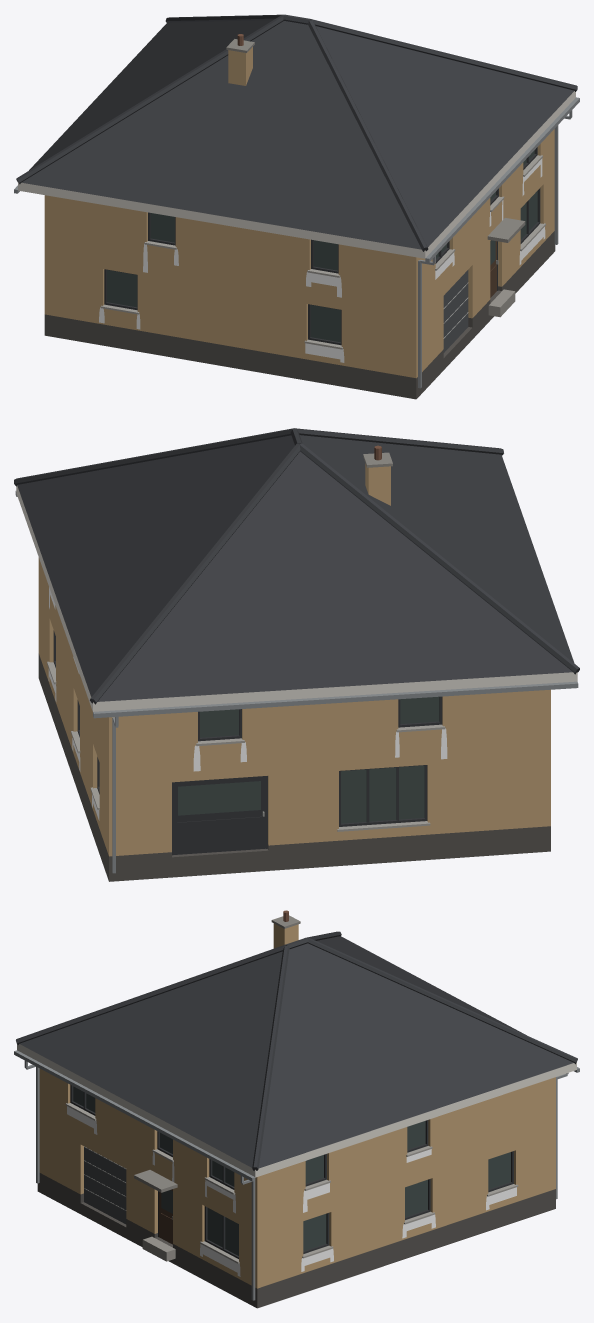
The model's file is vh_buff_hip.glb.
3 renders of one model, top to bottom at view 1: azimuth 30°, elevation 25°; view 2: azimuth 150°, elevation 25°; view 3: azimuth 270°, elevation 25°, orthographic. The views are drawn at different scales.
Parts seen in each view (by area): view 1: vh_roof, vh_brick, vh_trim, vh_frames_small, vh_glass, vh_stone, vh_streaks_small; view 2: vh_roof, vh_brick, vh_trim, vh_frames_small, vh_glass, vh_stone, vh_streaks_small; view 3: vh_roof, vh_brick, vh_trim, vh_frames_small, vh_glass, vh_stone, vh_streaks_small.
Boxes of the visible parts, bbox=[...] form: vh_roof: bbox=[16, 14, 577, 251]; vh_brick: bbox=[44, 47, 554, 378]; vh_trim: bbox=[18, 91, 575, 399]; vh_frames_small: bbox=[14, 97, 579, 388]; vh_glass: bbox=[107, 150, 537, 342]; vh_stone: bbox=[100, 34, 545, 349]; vh_streaks_small: bbox=[99, 158, 545, 362]; vh_roof: bbox=[14, 428, 579, 704]; vh_brick: bbox=[38, 463, 550, 856]; vh_trim: bbox=[16, 485, 577, 881]; vh_frames_small: bbox=[15, 491, 578, 873]; vh_glass: bbox=[178, 696, 439, 823]; vh_stone: bbox=[47, 445, 445, 831]; vh_streaks_small: bbox=[48, 587, 447, 820]; vh_roof: bbox=[16, 931, 577, 1170]; vh_brick: bbox=[39, 923, 555, 1288]; vh_trim: bbox=[17, 1044, 576, 1308]; vh_frames_small: bbox=[14, 1050, 579, 1300]; vh_glass: bbox=[73, 1086, 510, 1255]; vh_stone: bbox=[65, 910, 518, 1263]; vh_streaks_small: bbox=[67, 1106, 516, 1276].
Bounding box in the file's own units: 19.04 × 9.75 × 19.23.
